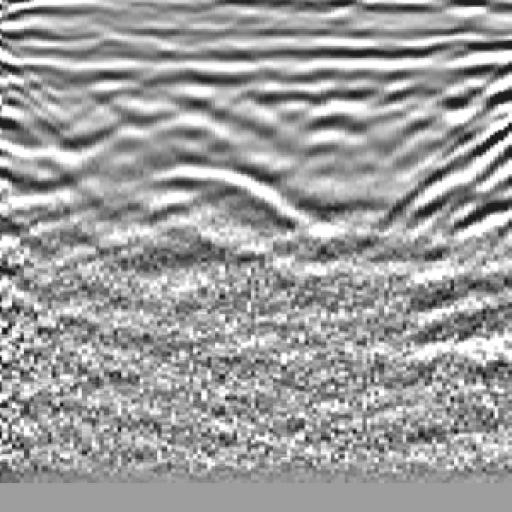metalic: (135, 128, 311, 267)
nonmetalic: (384, 52, 512, 274)
